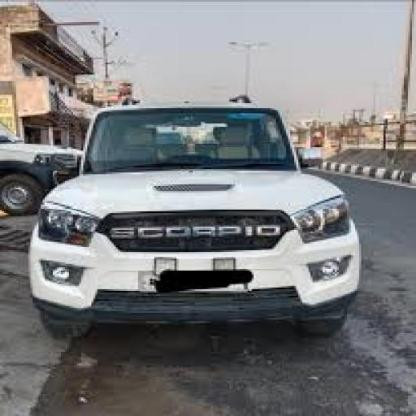car: (24, 99, 365, 347)
